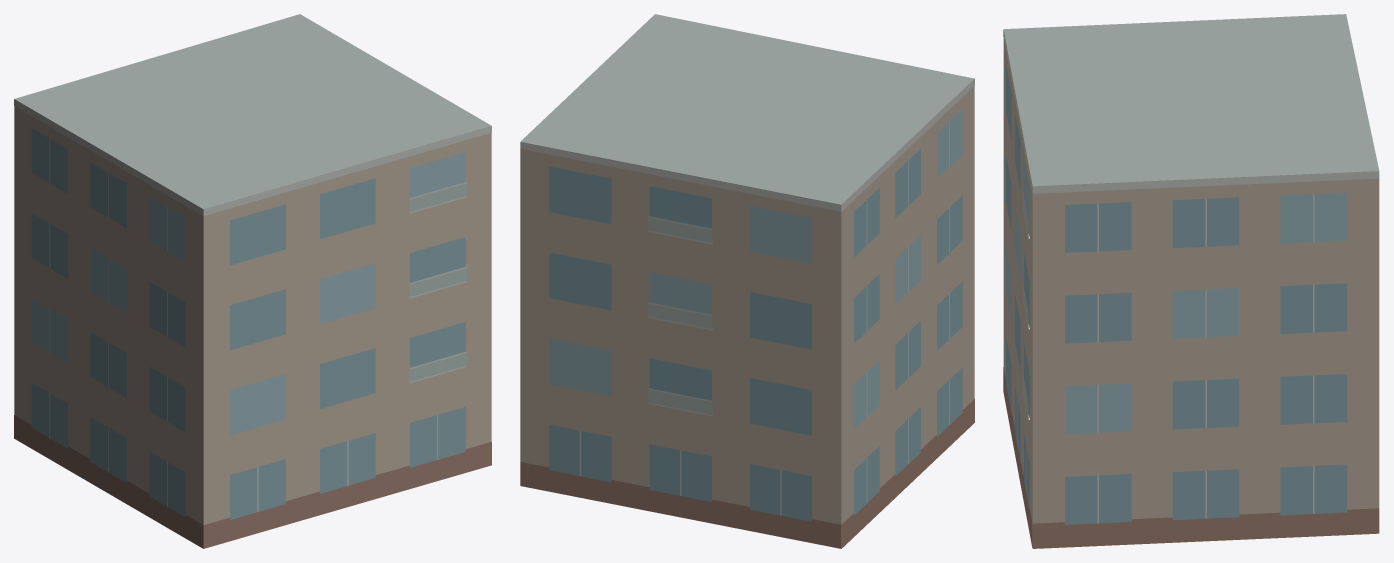
File: survey-upis-32664200.glb
3 renders of one model, left to right at view 1: azimuth 30°, elevation 25°; view 2: azimuth 150°, elevation 25°; view 3: azimuth 270°, elevation 25°, orthographic. The views are drawn at different scales.
Visible parts, largest first — view 1: survey-upis-32664200.tmp; view 2: survey-upis-32664200.tmp; view 3: survey-upis-32664200.tmp.
Part boxes in pixels (box(x1,y1,x2,y2)): survey-upis-32664200.tmp: box(14, 14, 491, 548); survey-upis-32664200.tmp: box(520, 14, 974, 548); survey-upis-32664200.tmp: box(1003, 14, 1379, 548).
Size of the model in its own units: 12.09 by 11.85 by 11.15.
